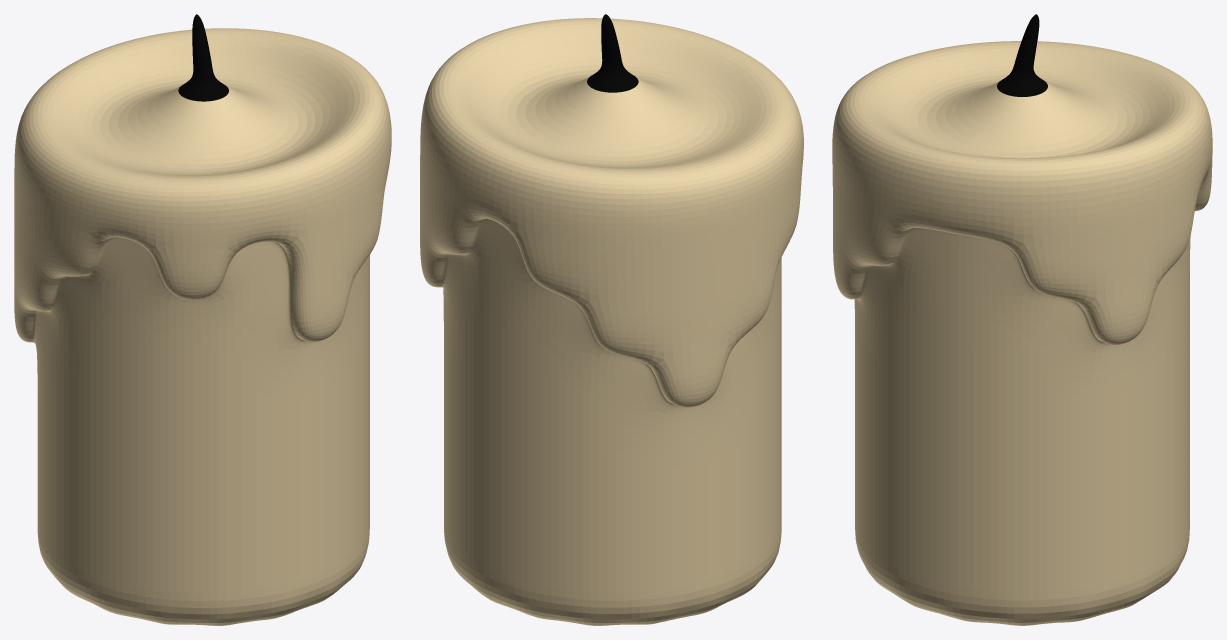
The model's file is vela1.fbx.
3 renders of one model, left to right at view 1: azimuth 30°, elevation 25°; view 2: azimuth 150°, elevation 25°; view 3: azimuth 270°, elevation 25°, orthographic.
Visible parts, largest first — view 1: Cylinder; view 2: Cylinder; view 3: Cylinder.
Part boxes in pixels (left/top/right/bottom): Cylinder: left=14, top=14, right=391, bottom=625; Cylinder: left=420, top=14, right=803, bottom=625; Cylinder: left=832, top=14, right=1212, bottom=625.
Size of the model in its own units: 222 by 363 by 221.
